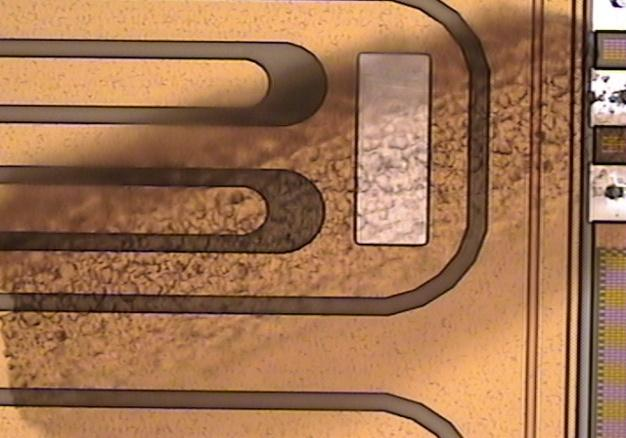PO CONTAMINATION: (2, 1, 626, 438)
